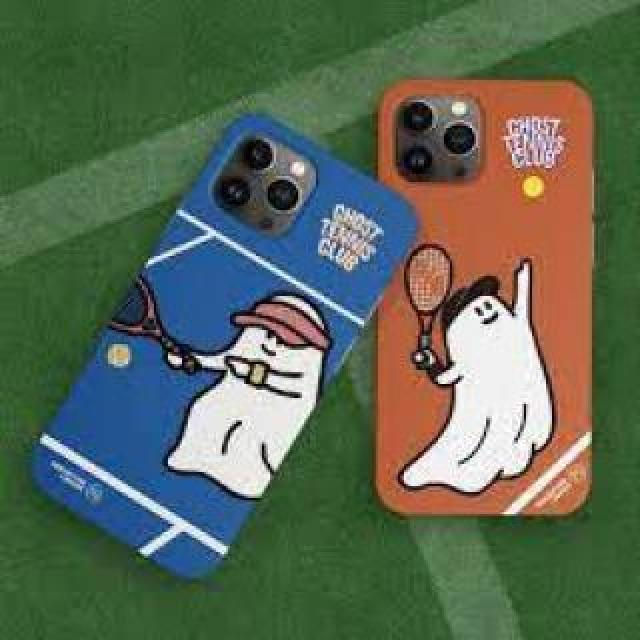smart phone: (50, 50, 365, 603), (378, 61, 614, 542)
